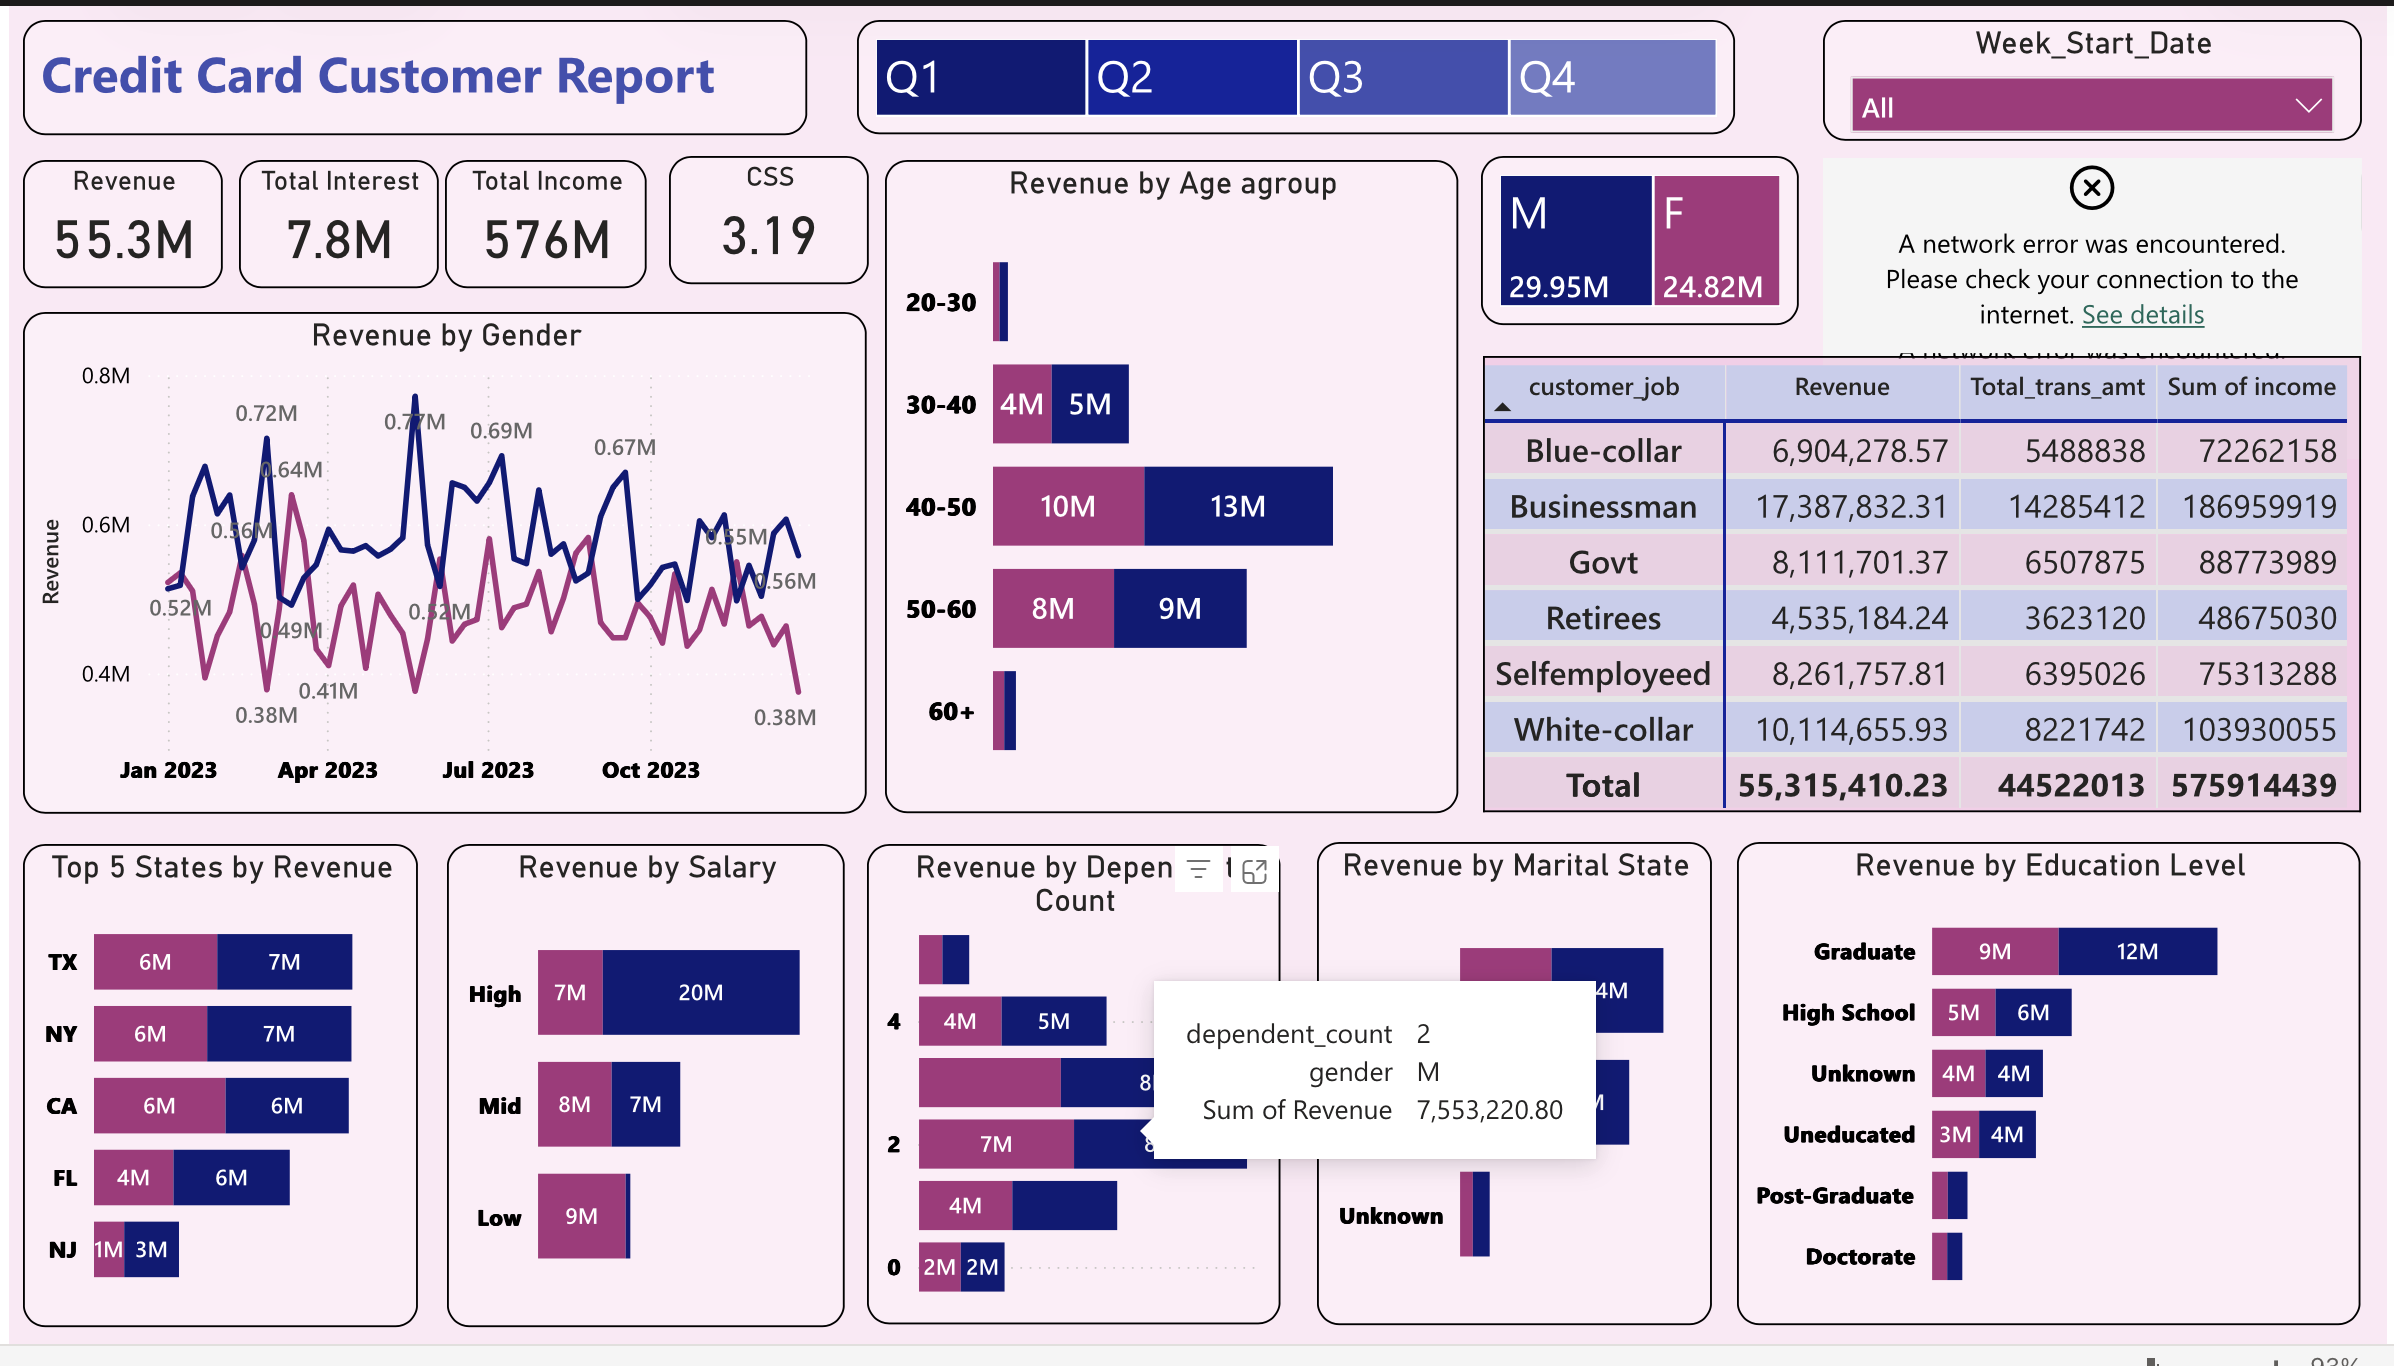

This screenshot's page, from the dashboard's own definition file:
{"tool":"powerbi","page":{"name":"Page 2","canvas":[1280,720],"ordinal":1},"visuals":[{"type":"textbox","box":[7.8,7.8,422.2,62.2],"z":0},{"type":"barChart","title":"Top 5 States by Revenue","fields":{"Y":["Sum(public cc_detail.Revenue)"],"Category":["public cust_detail.state_cd"],"Series":["public cust_detail.gender"]},"box":[7.1,451.4,212.9,260],"z":1000},{"type":"treemap","fields":{"Group":["public cc_detail.qtr"],"Values":["CountNonNull(public cc_detail.Revenue)"]},"box":[456.7,7.4,472.7,61.7],"z":2000},{"type":"treemap","fields":{"Group":["public cust_detail.gender"],"Values":["Sum(public cc_detail.Revenue)"]},"box":[792.5,81.2,171.2,91],"z":3000},{"type":"card","title":"Revenue","fields":{"Values":["Sum(public cc_detail.Revenue)"]},"box":[7.5,82.5,107.5,68.8],"z":4000},{"type":"card","title":"Total Interest","fields":{"Values":["Sum(public cc_detail.interest_earned)"]},"box":[123.8,82.5,107.5,68.8],"z":5000},{"type":"card","title":"Total Income","fields":{"Values":["Sum(public cust_detail.income)"]},"box":[235,82.5,108.8,68.8],"z":6000},{"type":"card","title":"CSS","fields":{"Values":["Avg(public cust_detail.cust_satisfaction_score)"]},"box":[355,81.2,107.5,68.8],"z":7000},{"type":"slicer","title":"Week_Start_Date","fields":{"Values":["public cc_detail.week_start_date"]},"box":[976.7,7.8,290,65],"z":8000},{"type":"treemap","fields":{"Group":["public cc_detail.card_category"],"Values":["select"]},"box":[976.2,138.8,290,46],"z":9000},{"type":"treemap","fields":{"Group":["public cust_detail.IncomeGroup"],"Values":["select"]},"box":[975.7,81.4,290,48],"z":10000},{"type":"barChart","title":"Revenue by Salary","fields":{"Y":["Sum(public cc_detail.Revenue)"],"Category":["public cust_detail.IncomeGroup"],"Series":["public cust_detail.gender"]},"box":[235.7,451.4,214.3,260],"z":11000},{"type":"barChart","title":"Revenue by Dependent Count","fields":{"Y":["Sum(public cc_detail.Revenue)"],"Category":["public cust_detail.dependent_count"],"Series":["public cust_detail.gender"]},"box":[461.4,451.4,222.9,258.6],"z":12000},{"type":"barChart","title":"Revenue by Education Level","fields":{"Y":["Sum(public cc_detail.Revenue)"],"Category":["public cust_detail.education_level"],"Series":["public cust_detail.gender"]},"box":[930,450,335.7,260],"z":13000},{"type":"barChart","title":"Revenue by Marital State","fields":{"Y":["Sum(public cc_detail.Revenue)"],"Category":["public cust_detail.marital_status"],"Series":["public cust_detail.gender"]},"box":[704.3,450,212.9,260],"z":14000},{"type":"lineChart","title":"Revenue by Gender","fields":{"Y":["Sum(public cc_detail.Revenue)"],"Series":["public cust_detail.gender"],"Category":["public cc_detail.week_start_date.Variation.Date Hierarchy.Year","public cc_detail.week_start_date.Variation.Date Hierarchy.Quarter","public cc_detail.week_start_date.Variation.Date Hierarchy.Month","public cc_detail.week_start_date.Variation.Date Hierarchy.Day"]},"box":[7.1,164.3,454.3,270],"z":15000},{"type":"pivotTable","fields":{"Rows":["public cust_detail.customer_job"],"Values":["Sum(public cc_detail.Revenue)","Sum(public cc_detail.total_trans_amt)","Sum(public cust_detail.income)"]},"box":[792.9,188.6,472.9,245.7],"z":16000},{"type":"barChart","title":"Revenue by Age agroup","fields":{"Y":["Sum(public cc_detail.Revenue)"],"Category":["public cust_detail.AgeGroup"],"Series":["public cust_detail.gender"]},"box":[471.4,82.9,308.6,351.4],"z":17000}]}

Visuals, with their boxes in screenshot pixels (x1, y1, x2, y2), scaled from the page's 1280x720 canvas onto the 2394x1366 screenshot:
textbox: (15, 15, 804, 133)
"Top 5 States by Revenue" barChart: (13, 856, 411, 1350)
treemap - public cc_detail.qtr x CountNonNull(public cc_detail.Revenue): (854, 14, 1738, 131)
treemap - public cust_detail.gender x Sum(public cc_detail.Revenue): (1482, 154, 1802, 327)
"Revenue" card: (14, 157, 215, 287)
"Total Interest" card: (232, 157, 433, 287)
"Total Income" card: (440, 157, 643, 287)
"CSS" card: (664, 154, 865, 285)
"Week_Start_Date" slicer: (1827, 15, 2369, 138)
treemap - public cc_detail.card_category x select: (1826, 263, 2368, 351)
treemap - public cust_detail.IncomeGroup x select: (1825, 154, 2367, 246)
"Revenue by Salary" barChart: (441, 856, 842, 1350)
"Revenue by Dependent Count" barChart: (863, 856, 1280, 1347)
"Revenue by Education Level" barChart: (1739, 854, 2367, 1347)
"Revenue by Marital State" barChart: (1317, 854, 1715, 1347)
"Revenue by Gender" lineChart: (13, 312, 863, 824)
pivotTable - public cust_detail.customer_job x Sum(public cc_detail.Revenue): (1483, 358, 2367, 824)
"Revenue by Age agroup" barChart: (882, 157, 1459, 824)
